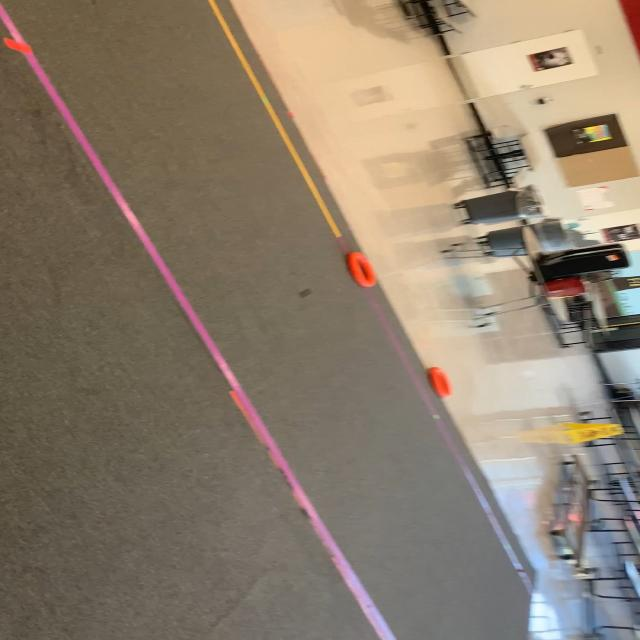notes: (341, 248, 382, 289)
